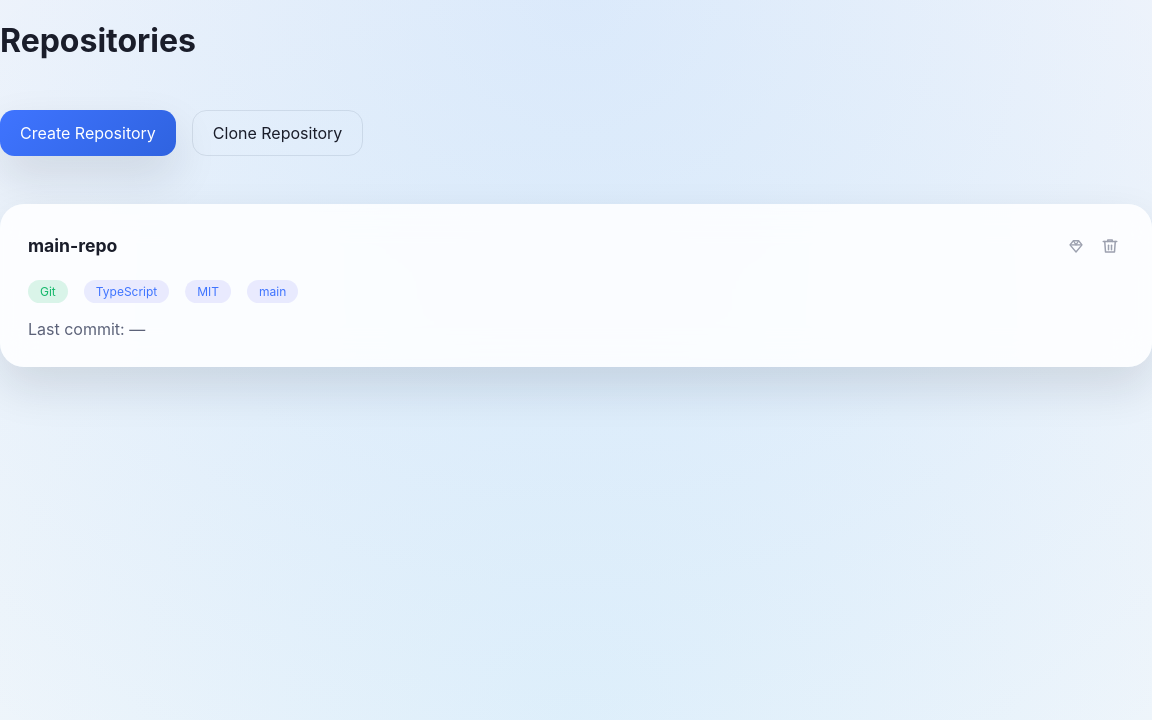
RepositoriesPage › opens template modal and applies template
Click the button named "Apply template to main-repo": click(1076, 246) x1=1062 y1=232 x2=1090 y2=260
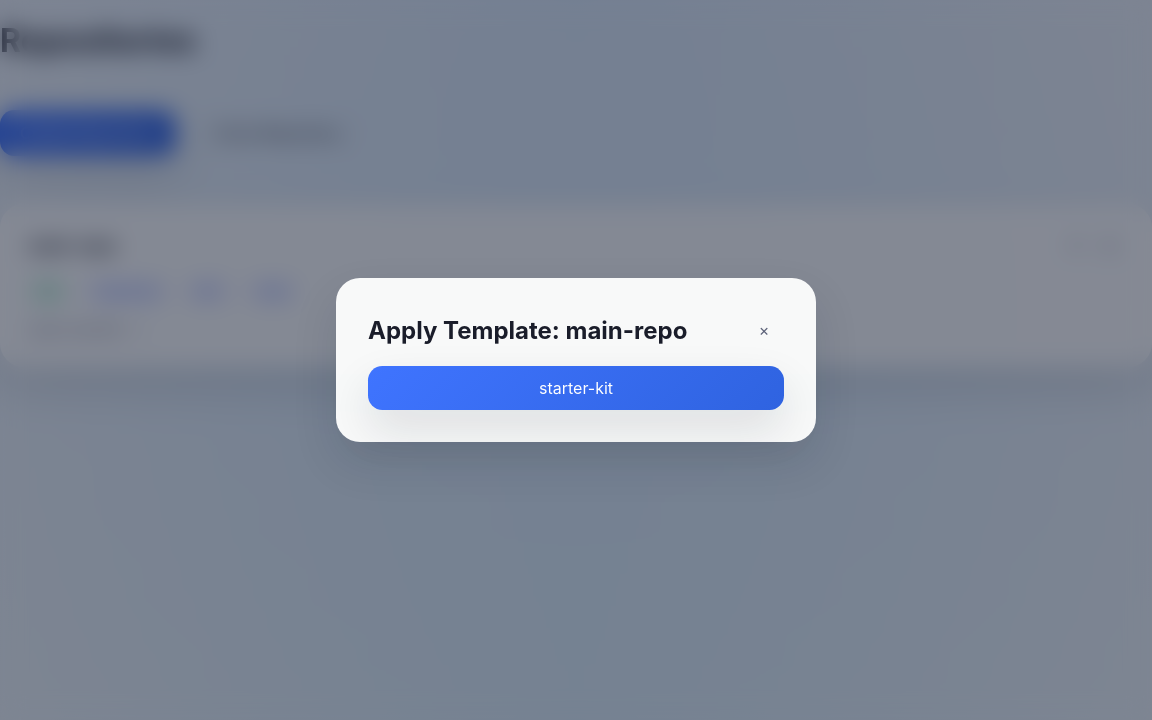
Expected: the button "starter-kit" is shown
Click the button "starter-kit": click(576, 388) x1=368 y1=366 x2=784 y2=410
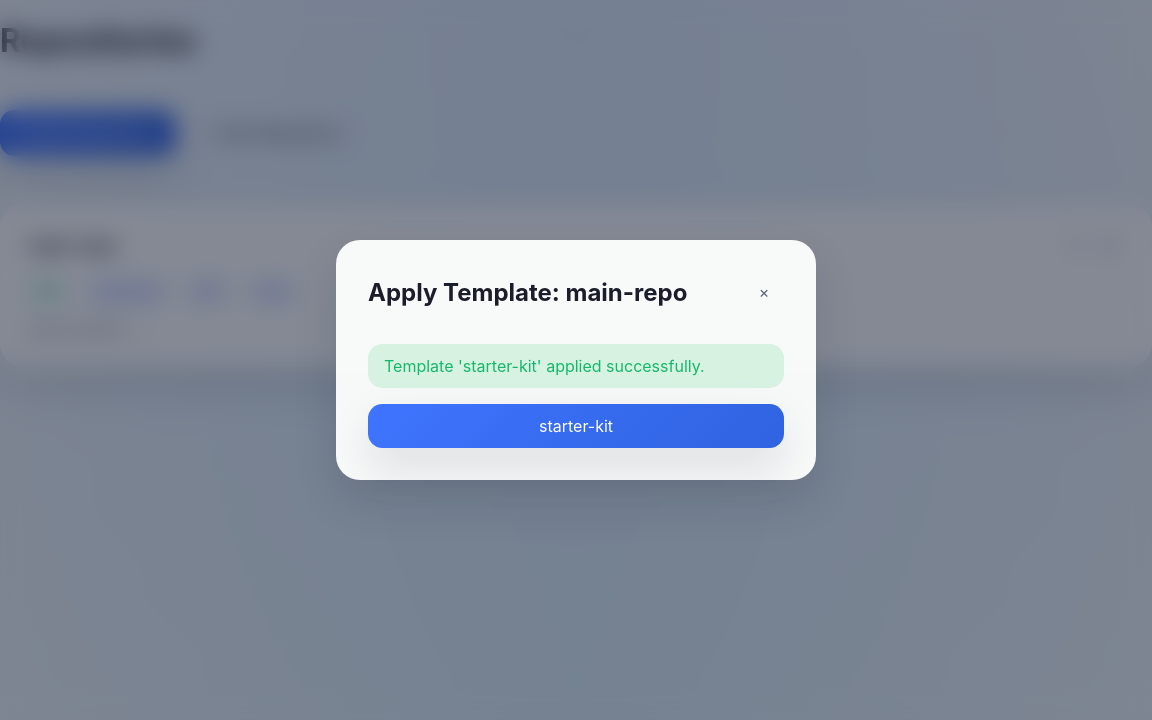
Expected: the text "Template 'starter-kit' applied successfully." is shown, x1=368 y1=344 x2=784 y2=388
